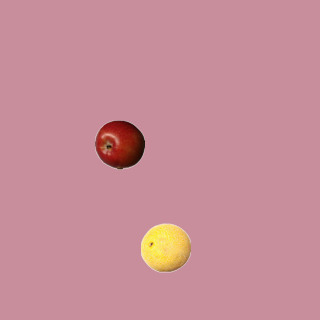Apple Braeburn: (94, 119, 144, 169)
Cantaloupe 1: (140, 222, 190, 272)
